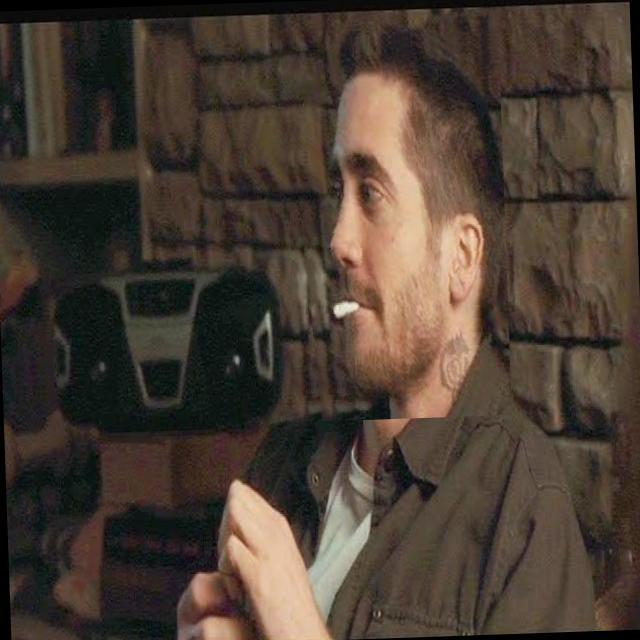cigarette: (308, 278, 347, 331)
